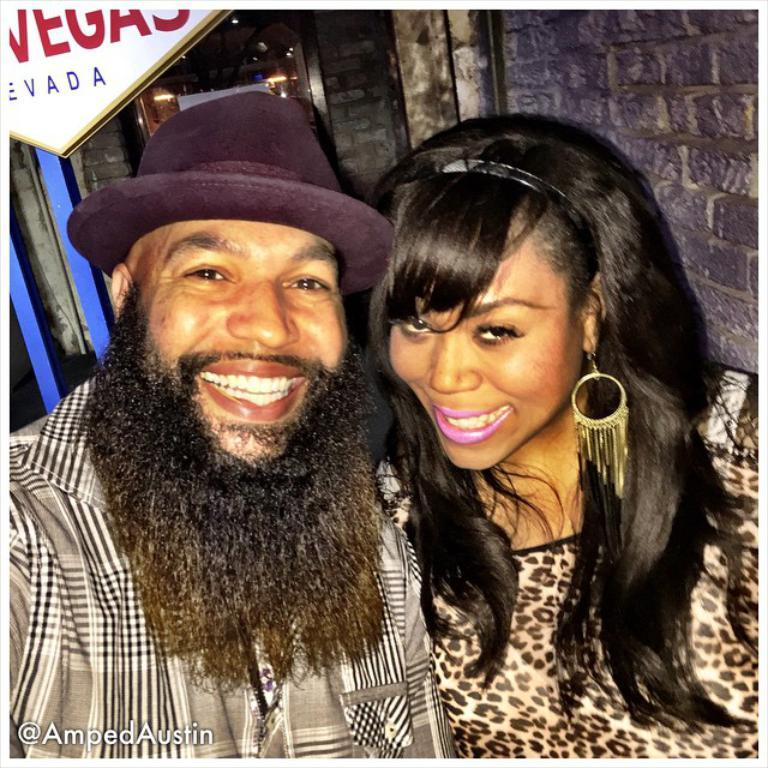Hat: (68, 90, 396, 296)
